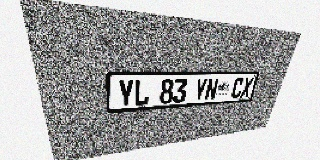3: (172, 79, 188, 103)
8: (159, 79, 175, 104)
C: (230, 77, 245, 99)
L: (134, 79, 150, 106)
N: (204, 78, 219, 101)
X: (239, 77, 254, 98)
Y: (118, 80, 134, 107), (193, 78, 208, 102)
